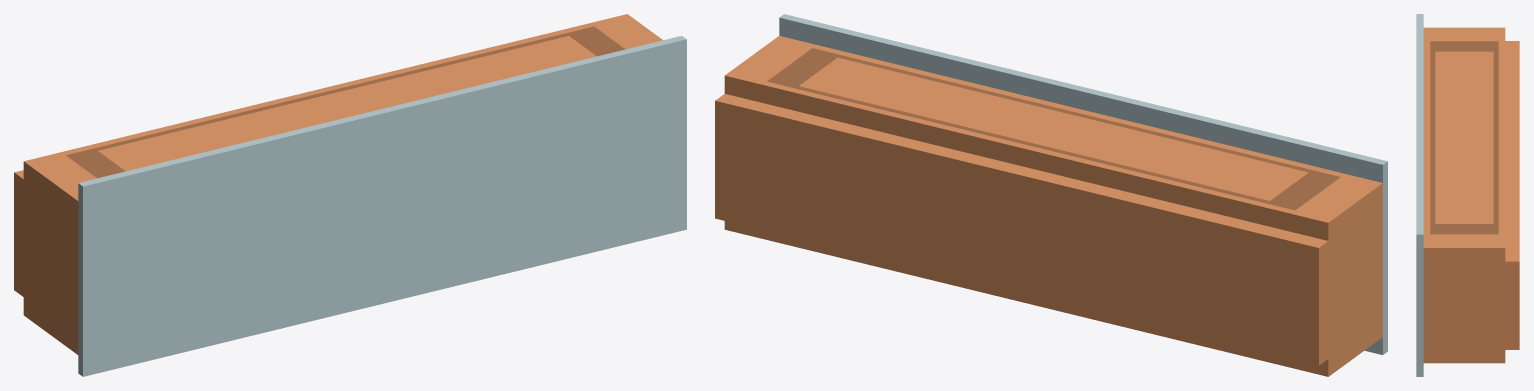
File: countertop_visual.obj
3 views of the same model, side by side, from view 1: azimuth 30°, elevation 25°; view 2: azimuth 150°, elevation 25°; view 3: azimuth 270°, elevation 25° (orthographic). The views are drawn at different scales.
Visible parts, largest first — view 1: kitchenBar.002_ID9.009; view 2: kitchenBar.002_ID9.009; view 3: kitchenBar.002_ID9.009.
Boxes of the visible parts, left/top/right/bottom form: kitchenBar.002_ID9.009: left=14, top=14, right=686, bottom=376; kitchenBar.002_ID9.009: left=715, top=14, right=1387, bottom=376; kitchenBar.002_ID9.009: left=1416, top=14, right=1519, bottom=376.
Size of the model in its own units: 3.77 by 1.14 by 0.7454.
